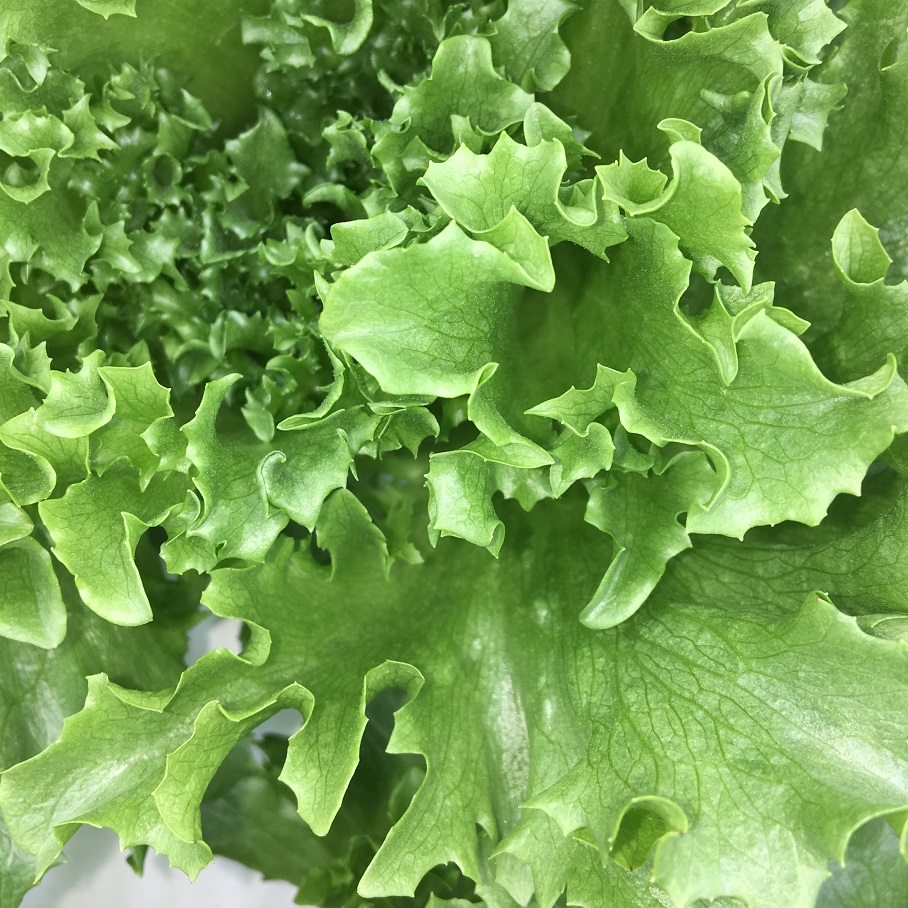tipburn: (666, 816, 696, 853), (614, 851, 648, 881), (803, 587, 827, 613)
